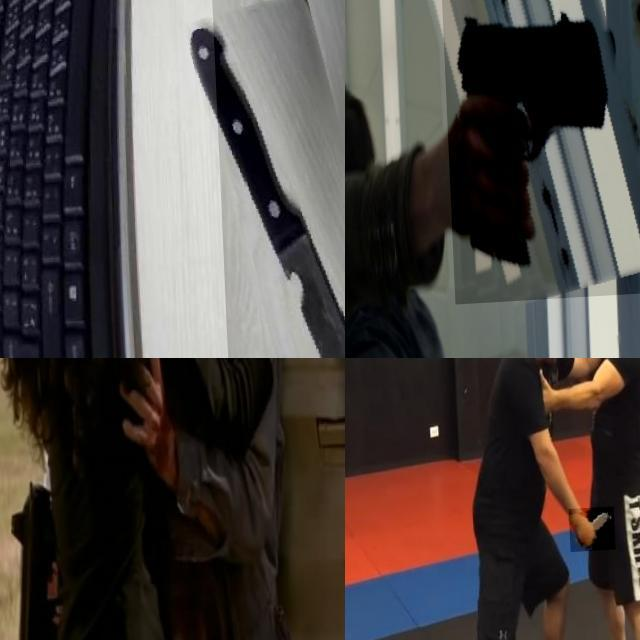-: (211, 0, 345, 358), (565, 512, 611, 557)
gun-knife-thesis - v11 Yolov5 augmented: (439, 0, 640, 308), (234, 358, 322, 447)
